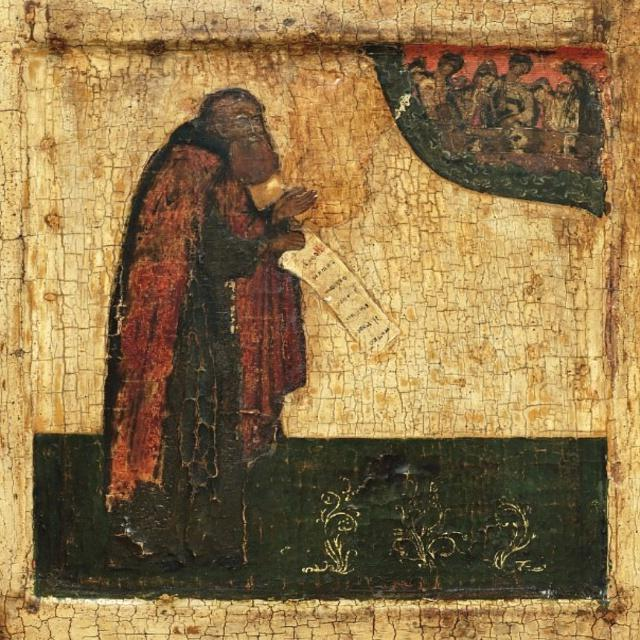angel: (485, 59, 550, 125), (416, 54, 477, 119)
aura: (159, 59, 303, 170)
saint: (126, 65, 294, 571)
scroll: (280, 224, 400, 360)
wing: (476, 57, 498, 79), (531, 72, 554, 91), (410, 58, 433, 74)
